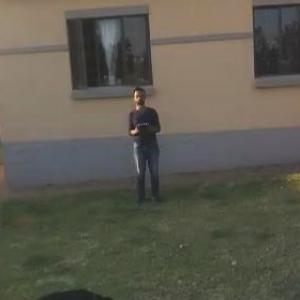follow: (126, 81, 170, 210)
